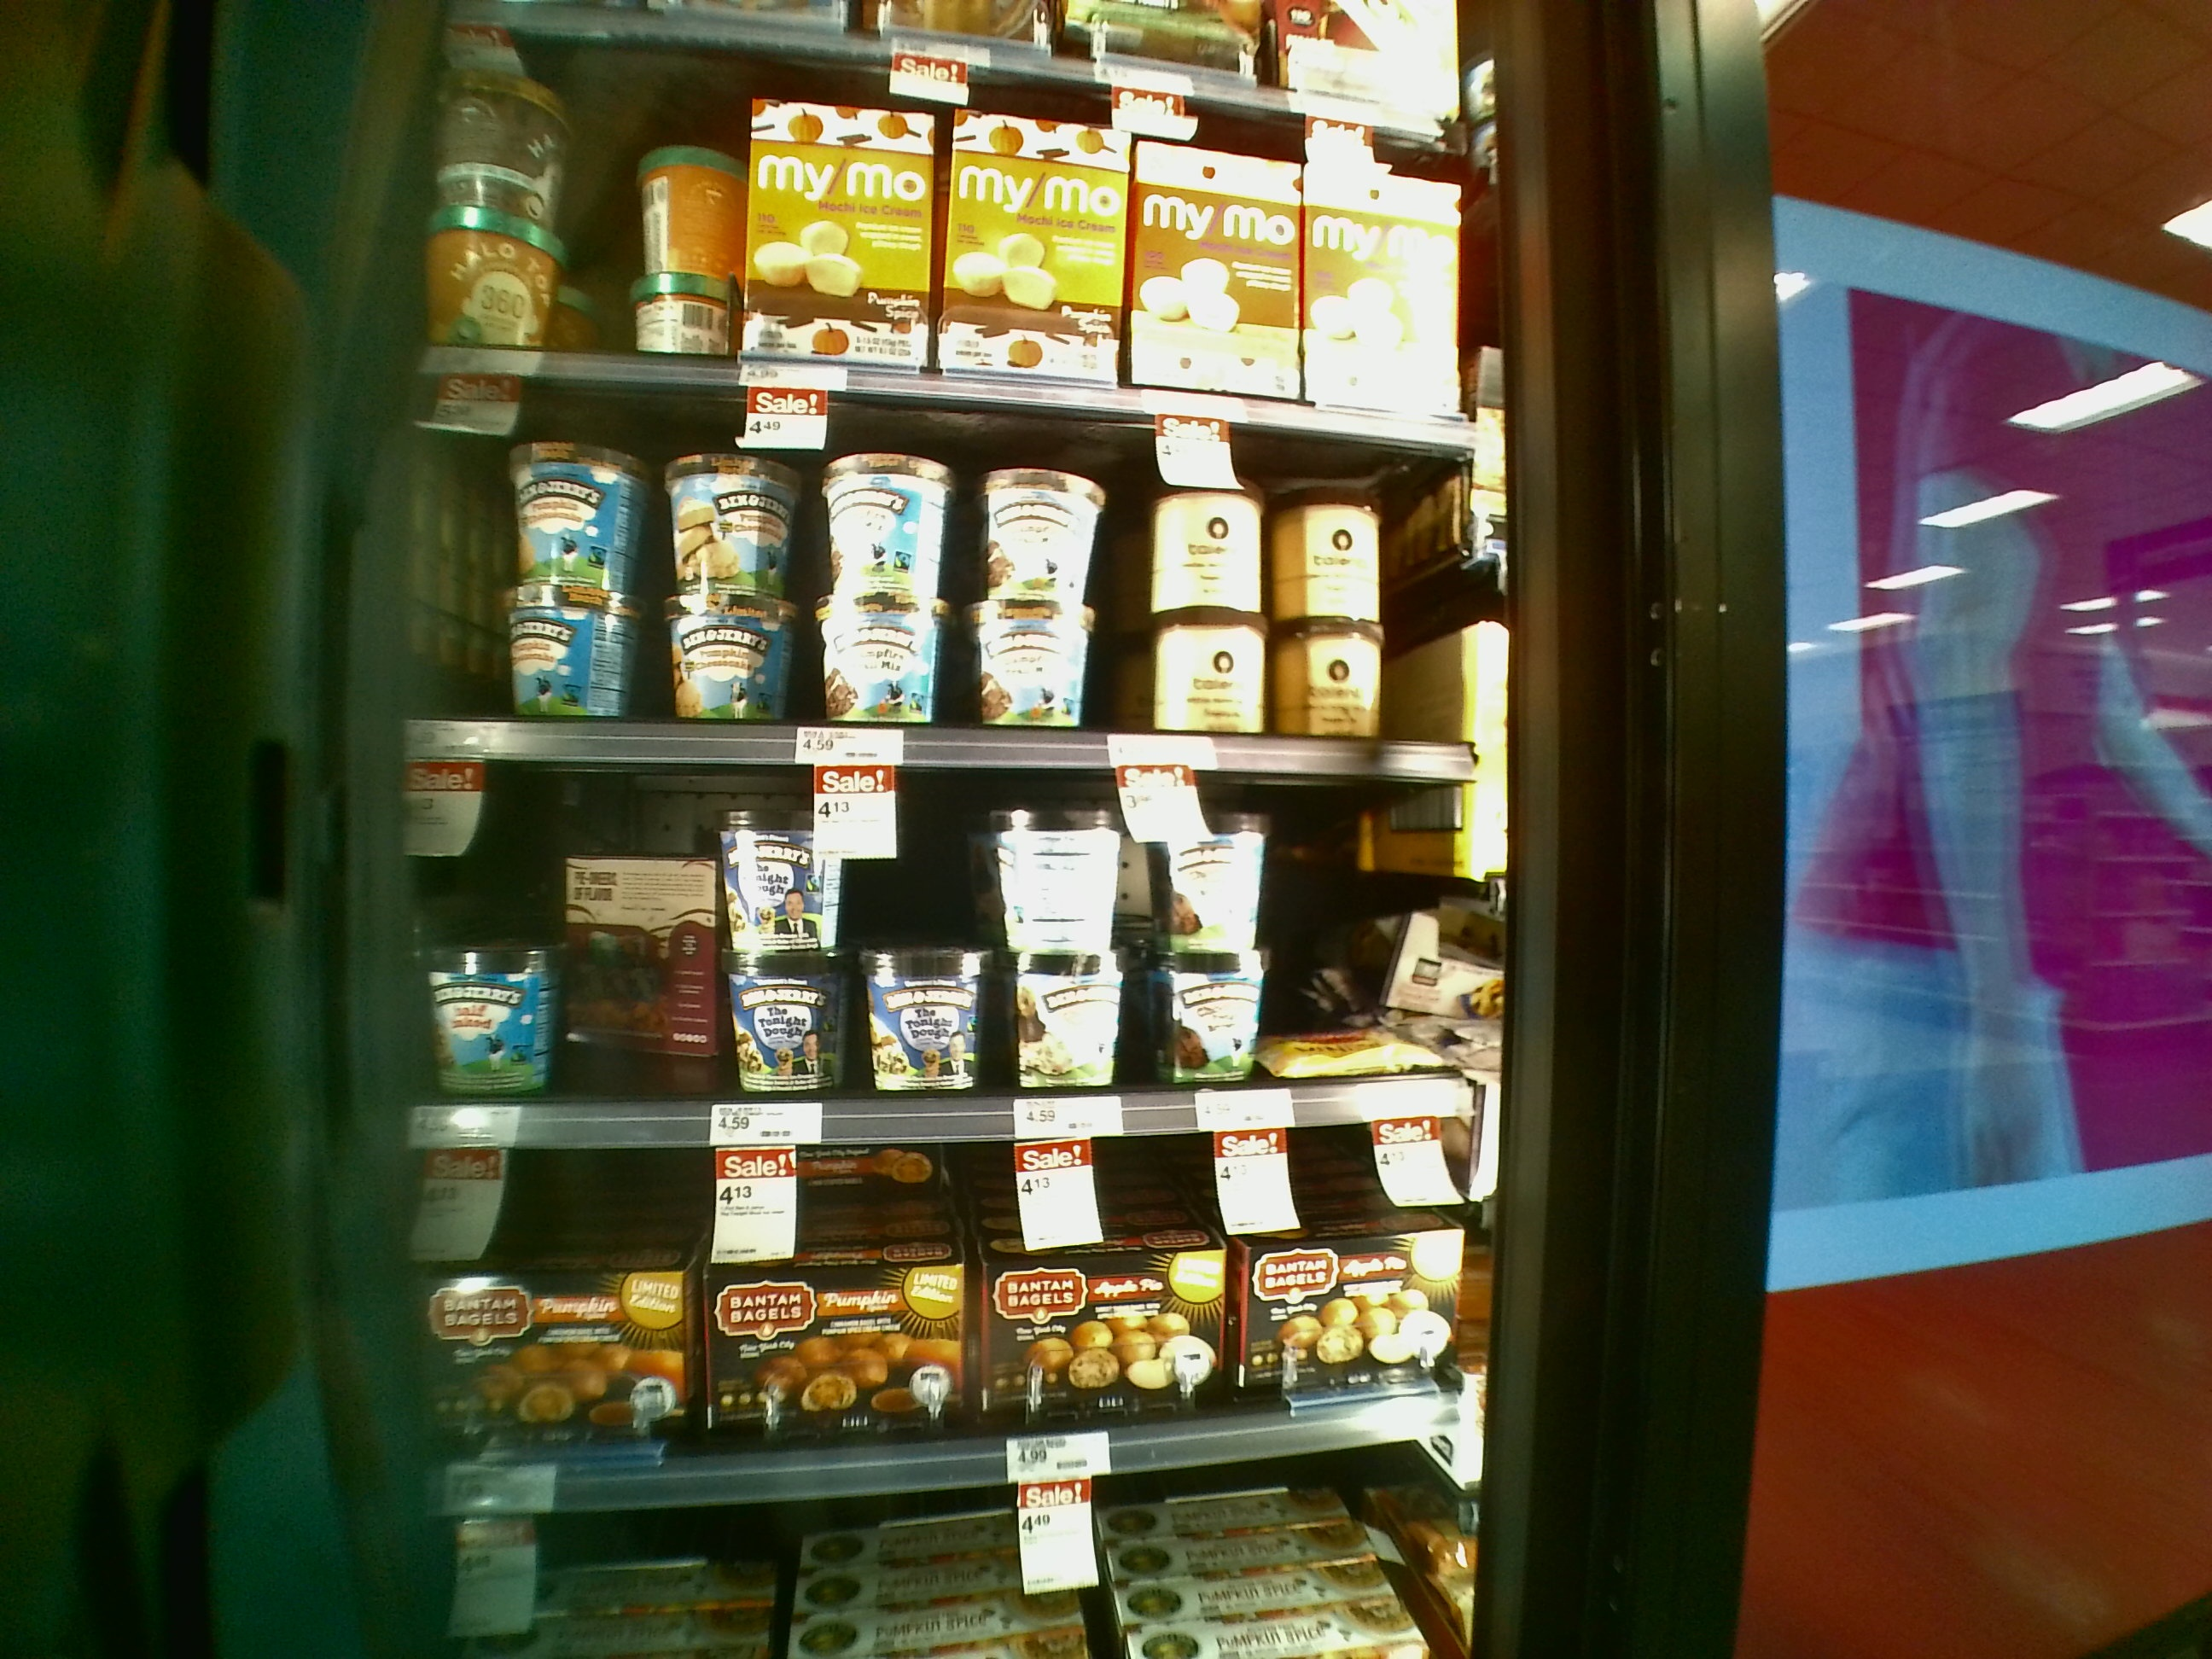shelf: (383, 368, 1529, 775), (355, 749, 1522, 1124), (340, 1138, 1529, 1455)
